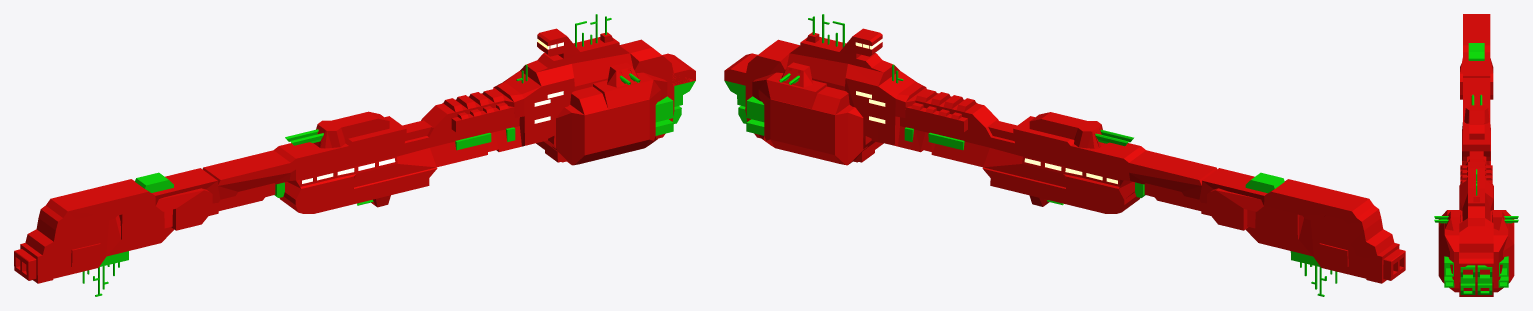
File: Hifrin 3D.fbx
The picture shows the model from 3 angles, left to right: view 1: azimuth 30°, elevation 25°; view 2: azimuth 150°, elevation 25°; view 3: azimuth 270°, elevation 25°; orthographic projection. The views are drawn at different scales.
Visible parts, largest first — view 1: PrimaryHull, TertiaryHull, Turret.004, SpecialHull, Turret.001; view 2: PrimaryHull, TertiaryHull, Turret.004, SpecialHull, Turret; view 3: PrimaryHull, TertiaryHull, Turret.004, Turret.001, Turret.
Boxes of the visible parts, <box> form: PrimaryHull: <box>14,28,695,283</box>; TertiaryHull: <box>82,14,695,296</box>; Turret.004: <box>285,111,389,148</box>; SpecialHull: <box>302,39,563,183</box>; Turret.001: <box>607,62,640,87</box>; PrimaryHull: <box>724,28,1405,283</box>; TertiaryHull: <box>724,14,1337,296</box>; Turret.004: <box>1029,112,1133,148</box>; SpecialHull: <box>855,39,1117,183</box>; Turret: <box>779,62,812,87</box>; PrimaryHull: <box>1438,14,1514,296</box>; TertiaryHull: <box>1444,43,1508,294</box>; Turret.004: <box>1464,94,1489,139</box>; Turret.001: <box>1434,211,1460,230</box>; Turret: <box>1492,211,1518,230</box>.
Size of the model in its own units: 757 by 174 by 105.
